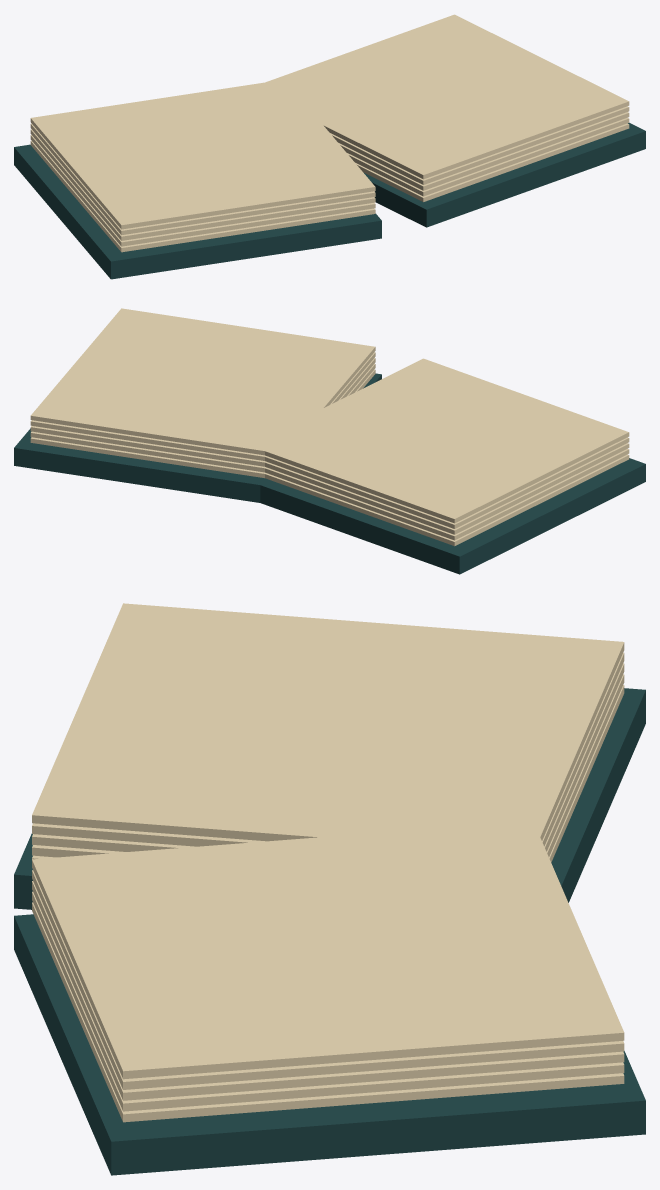
Rendered from book.glb.
The picture shows the model from 3 angles, top to bottom: view 1: azimuth 30°, elevation 25°; view 2: azimuth 150°, elevation 25°; view 3: azimuth 270°, elevation 25°; orthographic projection. The views are drawn at different scales.
Parts seen in each view (by area): view 1: page-left-4, page-right-4, cover-left, cover-right, page-left-3, page-left-1, page-left-2, page-left-0, page-right-3, page-right-2, page-right-1, page-right-0; view 2: page-left-4, page-right-4, cover-left, cover-right, page-left-1, page-left-3, page-left-0, page-left-2, page-right-3, page-right-2, page-right-1, page-right-0; view 3: page-left-4, page-right-4, cover-right, cover-left, page-right-1, page-right-0, page-right-2, page-right-3, page-left-3, page-left-2, page-left-1, page-left-0.
Part boxes in pixels (left/top/right/bottom): page-left-4: left=30, top=79, right=375, bottom=229; page-right-4: left=250, top=14, right=629, bottom=179; cover-left: left=14, top=144, right=381, bottom=279; cover-right: left=363, top=122, right=645, bottom=227; page-left-3: left=30, top=123, right=375, bottom=235; page-left-1: left=30, top=135, right=375, bottom=246; page-left-2: left=30, top=129, right=375, bottom=240; page-left-0: left=30, top=140, right=375, bottom=252; page-right-3: left=330, top=106, right=629, bottom=184; page-right-2: left=338, top=112, right=629, bottom=190; page-right-1: left=347, top=117, right=629, bottom=196; page-right-0: left=355, top=123, right=629, bottom=201; page-left-4: left=249, top=358, right=629, bottom=523; page-right-4: left=30, top=308, right=375, bottom=455; cover-left: left=242, top=458, right=645, bottom=574; cover-right: left=14, top=373, right=381, bottom=502; page-left-1: left=259, top=449, right=629, bottom=540; page-left-3: left=265, top=437, right=629, bottom=528; page-left-0: left=259, top=454, right=629, bottom=546; page-left-2: left=265, top=443, right=629, bottom=534; page-right-3: left=30, top=352, right=375, bottom=460; page-right-2: left=30, top=358, right=375, bottom=466; page-right-1: left=30, top=363, right=375, bottom=472; page-right-0: left=30, top=369, right=375, bottom=478; page-left-4: left=32, top=603, right=624, bottom=853; page-right-4: left=32, top=837, right=624, bottom=1079; cover-right: left=14, top=914, right=645, bottom=1175; cover-left: left=14, top=688, right=645, bottom=909; page-right-1: left=32, top=891, right=624, bottom=1111; page-right-0: left=32, top=902, right=624, bottom=1122; page-right-2: left=32, top=881, right=624, bottom=1100; page-right-3: left=32, top=870, right=624, bottom=1089; page-left-3: left=32, top=652, right=624, bottom=846; page-left-2: left=32, top=663, right=624, bottom=851; page-left-1: left=32, top=674, right=624, bottom=857; page-left-0: left=32, top=685, right=624, bottom=862.
Bounding box in the file's own units: 3.43 × 0.298 × 1.86.
